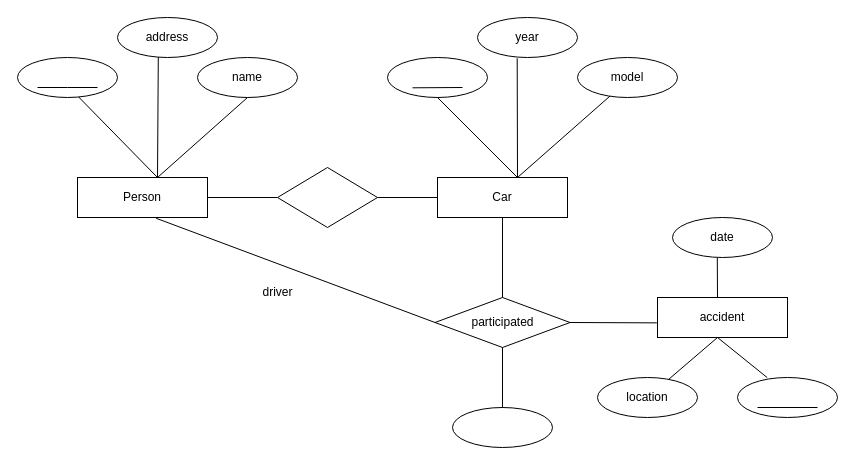
Image size: 855x465. Some labels were removed from this diagram. Here are the shapes that lost their labels. From the top down, the centre of each, then its label:
At [67,77]: "driver id".
At [437,77]: "license".
At [327,197]: "Owns".
At [787,397]: "report num".
At [502,427]: "damage-amount".
